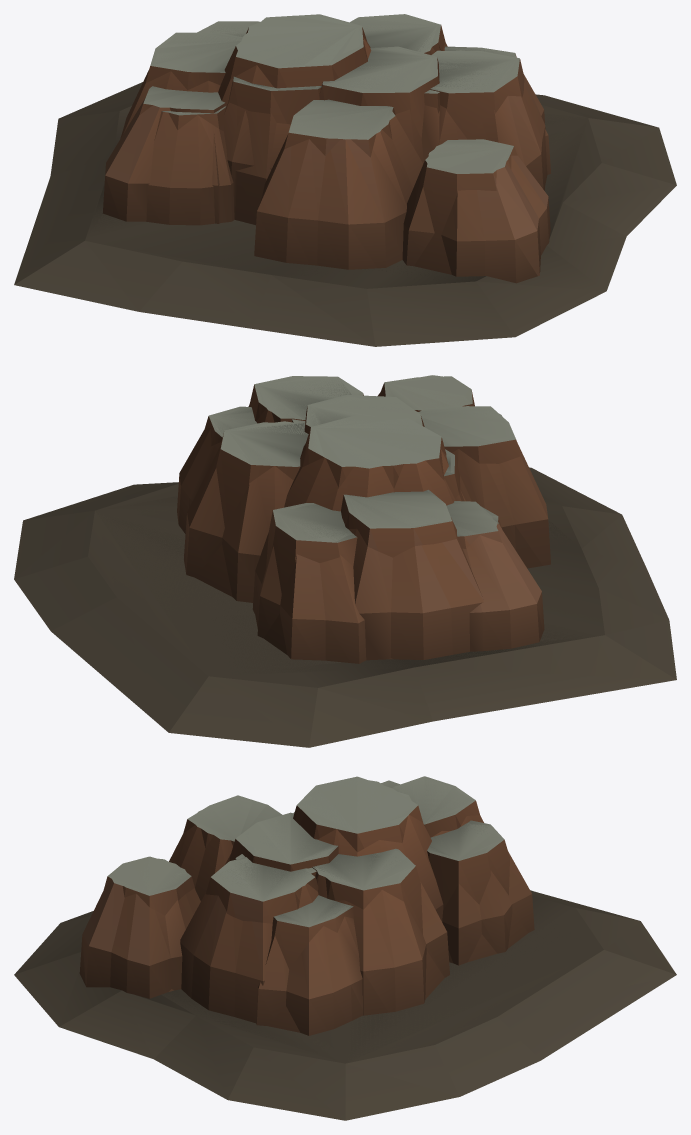
File: neutral_ore_field_stage_04.glb
The picture shows the model from 3 angles, top to bottom: view 1: azimuth 30°, elevation 25°; view 2: azimuth 150°, elevation 25°; view 3: azimuth 270°, elevation 25°; orthographic projection. The views are drawn at different scales.
Parts seen in each view (by area): view 1: body (×3); view 2: body (×3); view 3: body (×3).
Boxes of the visible parts, left/top/right/bottom form: body (×3): left=14, top=14, right=676, bottom=346; body (×3): left=14, top=375, right=676, bottom=747; body (×3): left=14, top=776, right=676, bottom=1120.
Bounding box in the file's own units: 3 × 0.746 × 2.88.
